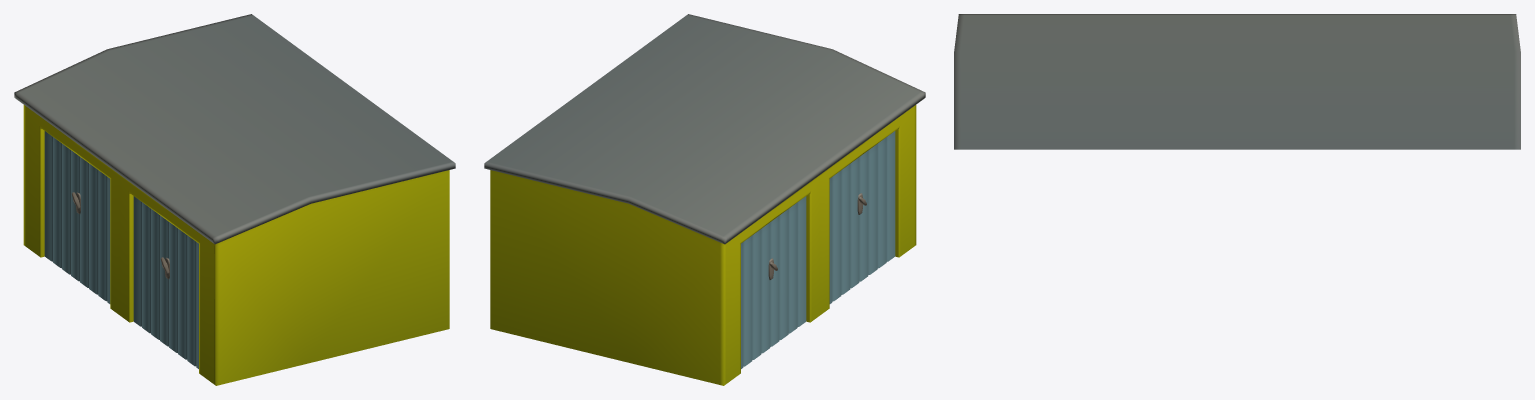
The model's file is Garage06.glb.
3 views of the same model, side by side, from view 1: azimuth 30°, elevation 25°; view 2: azimuth 150°, elevation 25°; view 3: azimuth 270°, elevation 25° (orthographic). The views are drawn at different scales.
Visible parts, largest first — view 1: Garage06; view 2: Garage06; view 3: Garage06.
Boxes of the visible parts, left/top/right/bottom form: Garage06: left=14, top=14, right=455, bottom=385; Garage06: left=484, top=14, right=925, bottom=385; Garage06: left=954, top=14, right=1520, bottom=149.
Size of the model in its own units: 7.84 by 5.33 by 11.59.
Materials: 2 (1 with a texture image).
